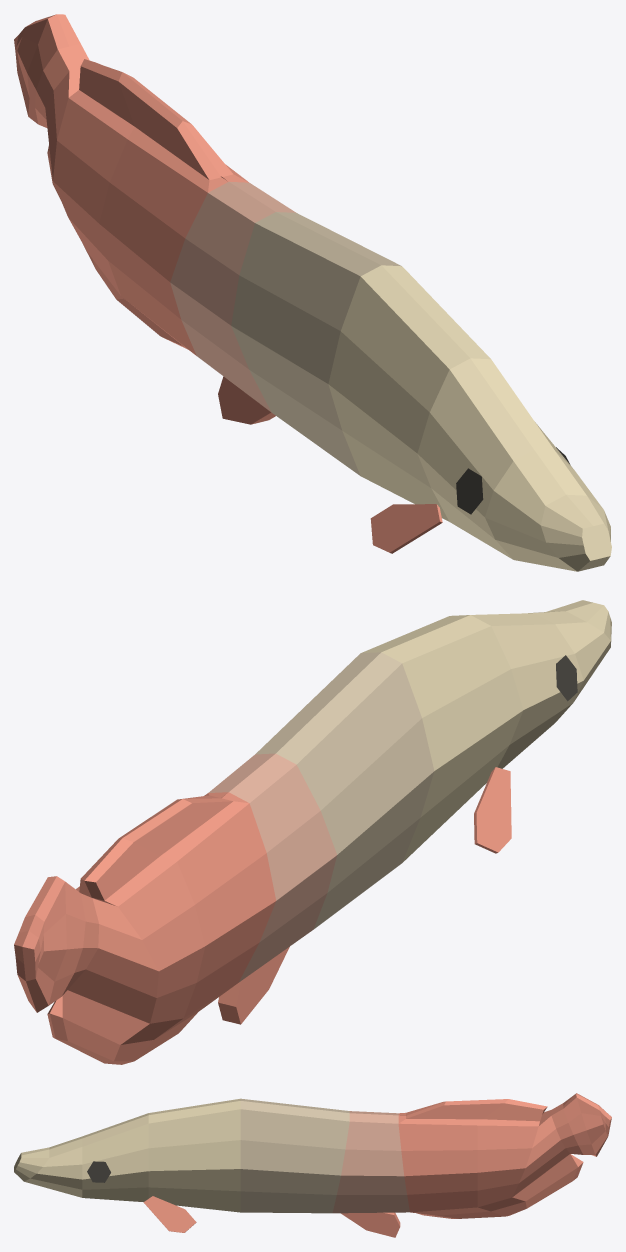
The model's file is peixao.fbx.
3 renders of one model, top to bottom at view 1: azimuth 30°, elevation 25°; view 2: azimuth 150°, elevation 25°; view 3: azimuth 270°, elevation 25°, orthographic. The views are drawn at different scales.
Parts seen in each view (by area): view 1: peixao; view 2: peixao; view 3: peixao.
Boxes of the visible parts, x1,y1,x2,y2 form: peixao: [14, 14, 611, 571]; peixao: [14, 600, 611, 1064]; peixao: [14, 1093, 611, 1237].
Size of the model in its own units: 42.93 by 89.58 by 342.
